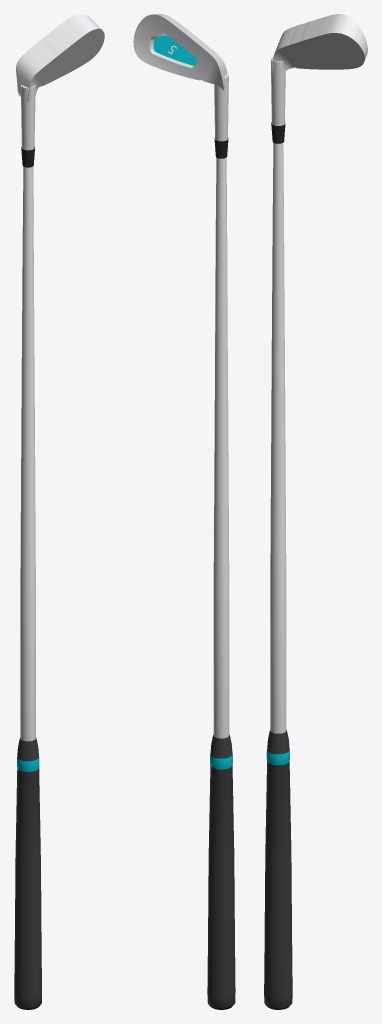
Rendered from Club_iron5_cavity.fbx.
3 renders of one model, left to right at view 1: azimuth 30°, elevation 25°; view 2: azimuth 150°, elevation 25°; view 3: azimuth 330°, elevation 25°, orthographic. The views are drawn at different scales.
Visible parts, largest first — view 1: Club_iron5_cavity; view 2: Club_iron5_cavity; view 3: Club_iron5_cavity.
Part boxes in pixels (box(x1,y1,x2,y2)): Club_iron5_cavity: box(14, 14, 104, 1009); Club_iron5_cavity: box(133, 14, 235, 1009); Club_iron5_cavity: box(264, 14, 367, 1009).
Size of the model in its own units: 0.097 by 0.982 by 0.0335.
